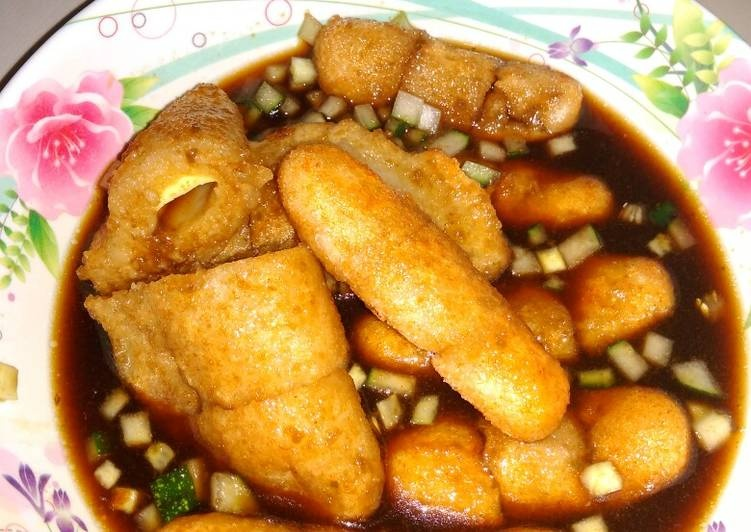pempek: (107, 20, 682, 513)
